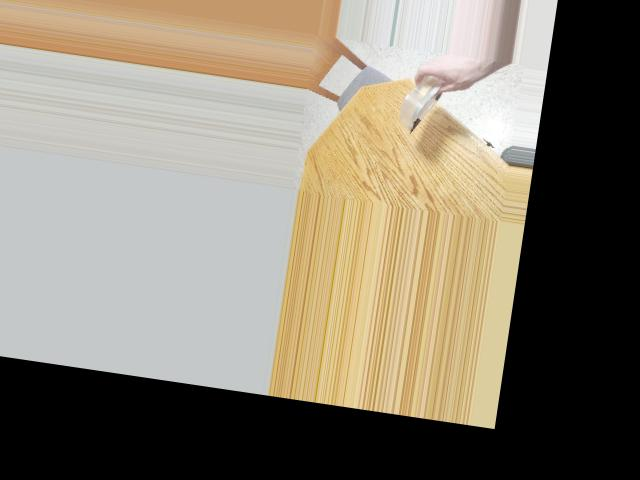cheese: (396, 68, 444, 134)
